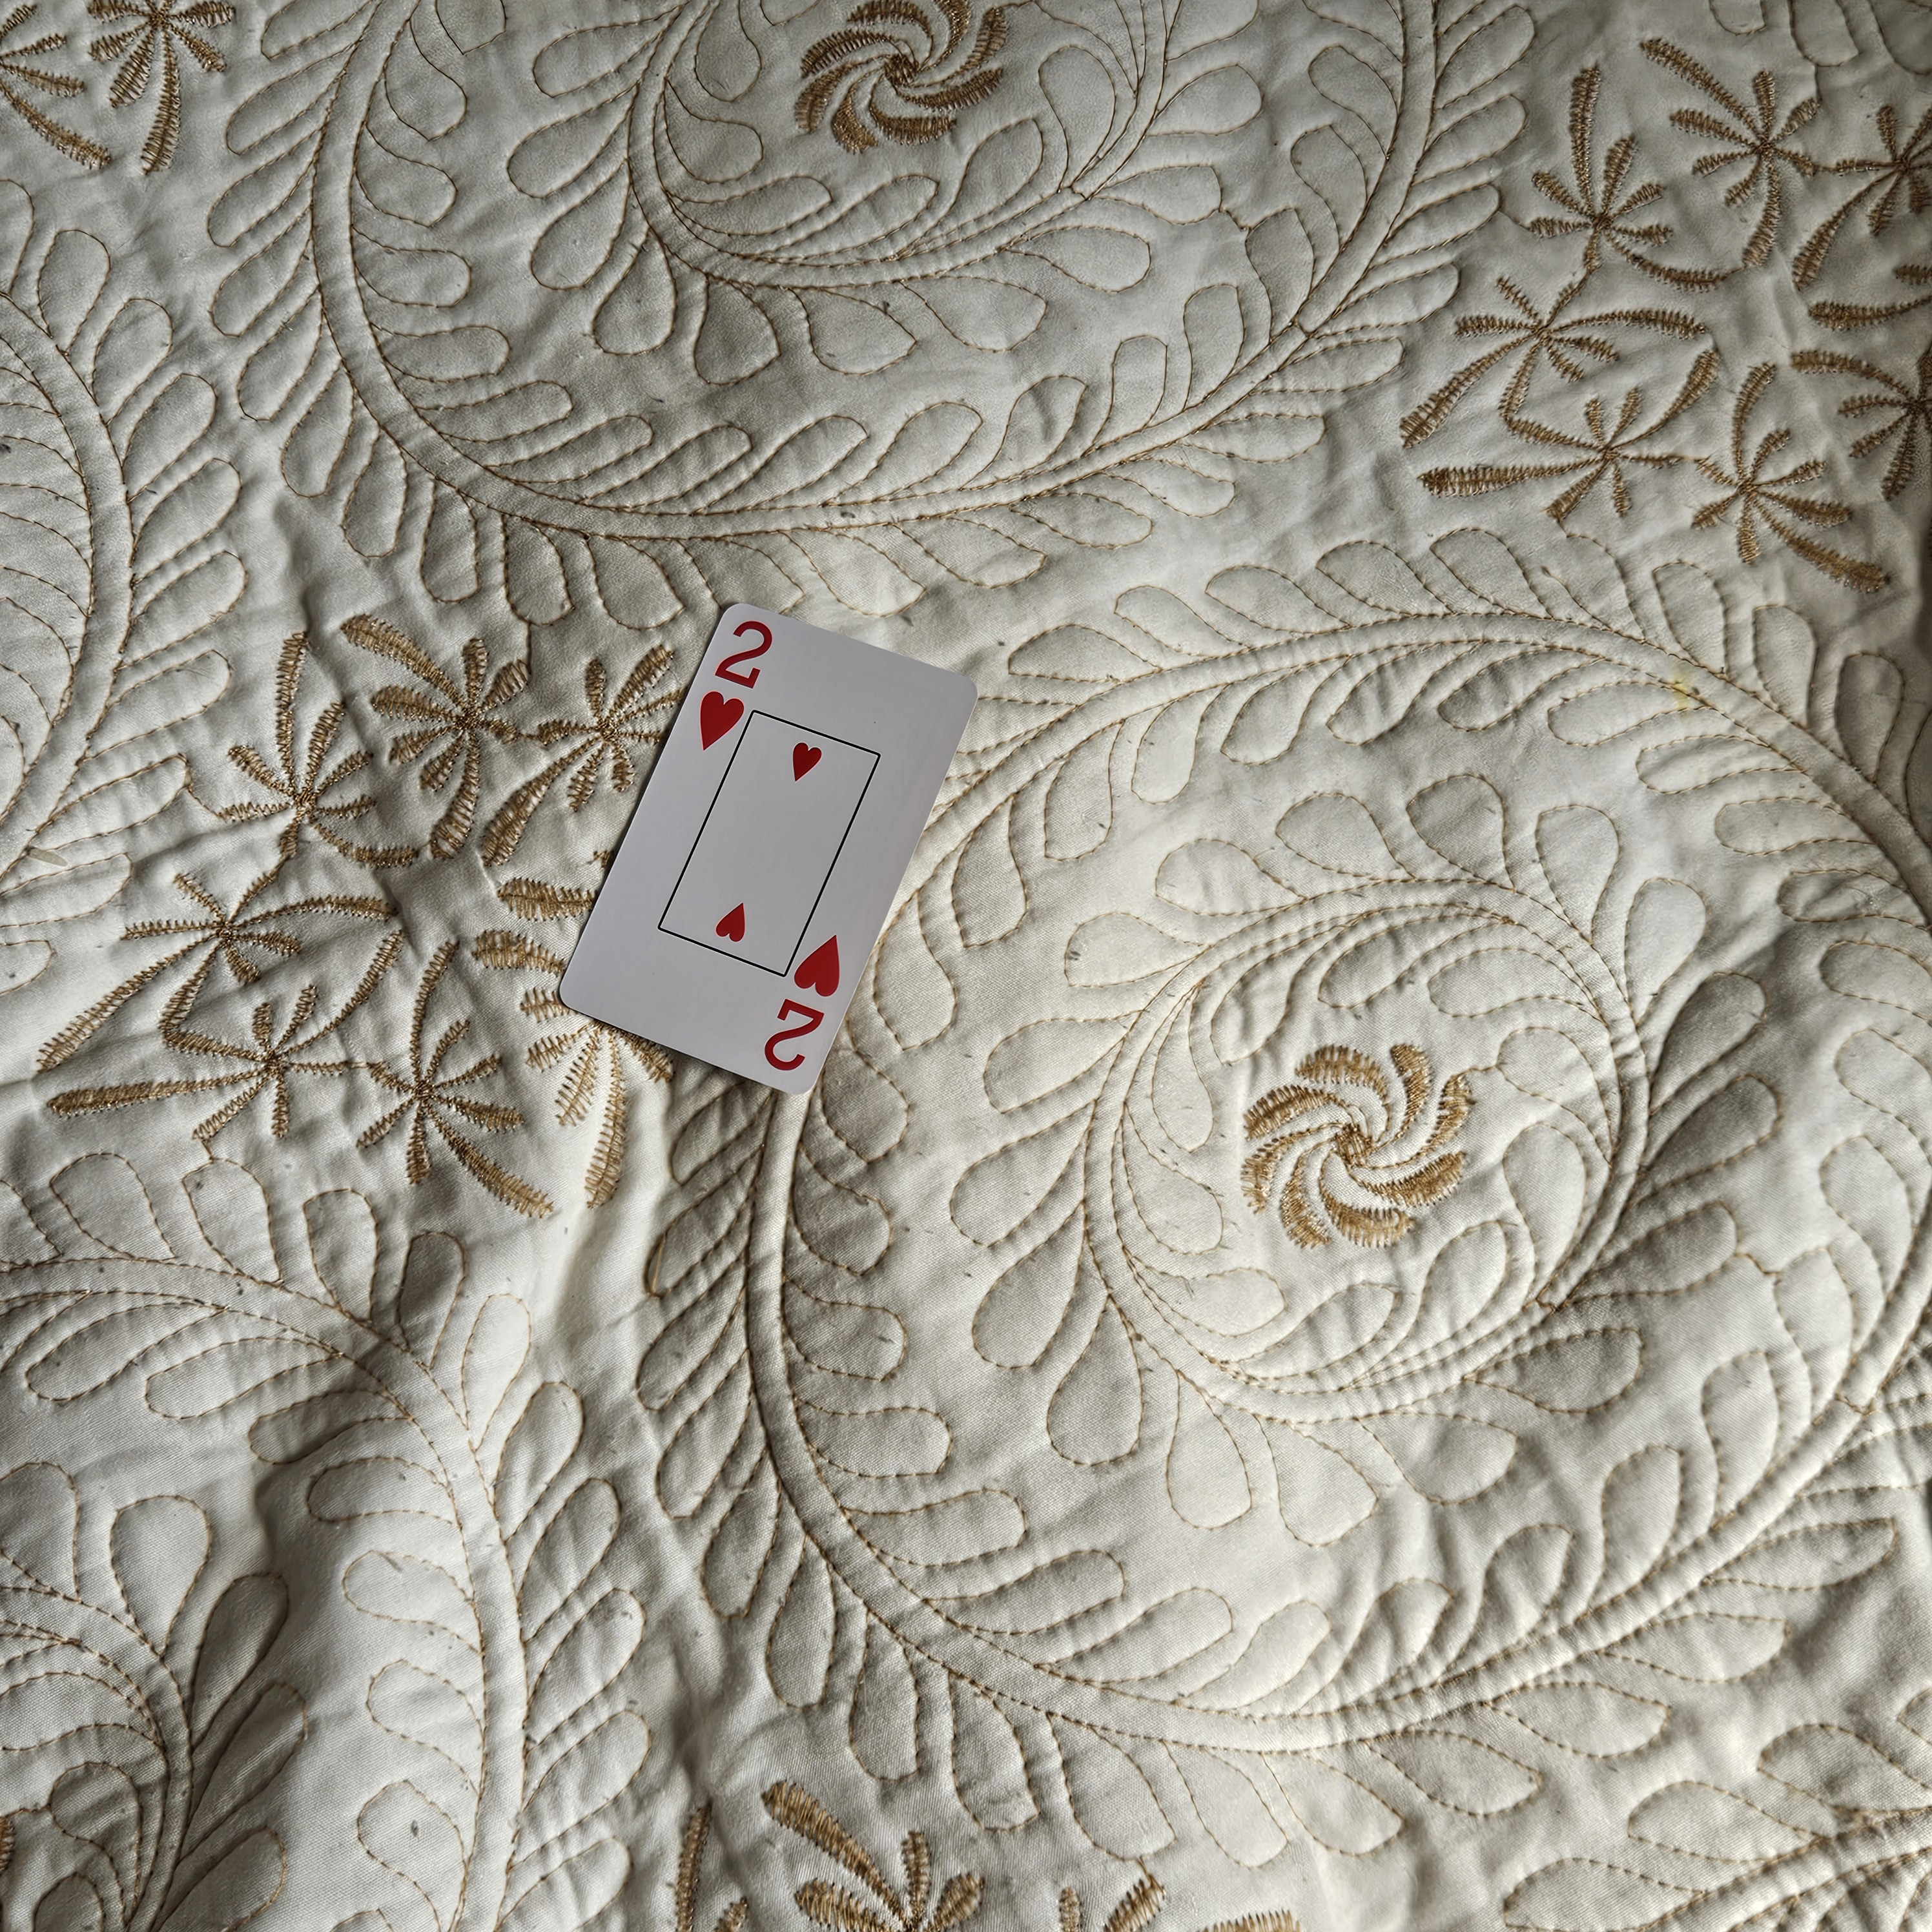2C: (754, 925, 855, 1083), (688, 607, 780, 757)
